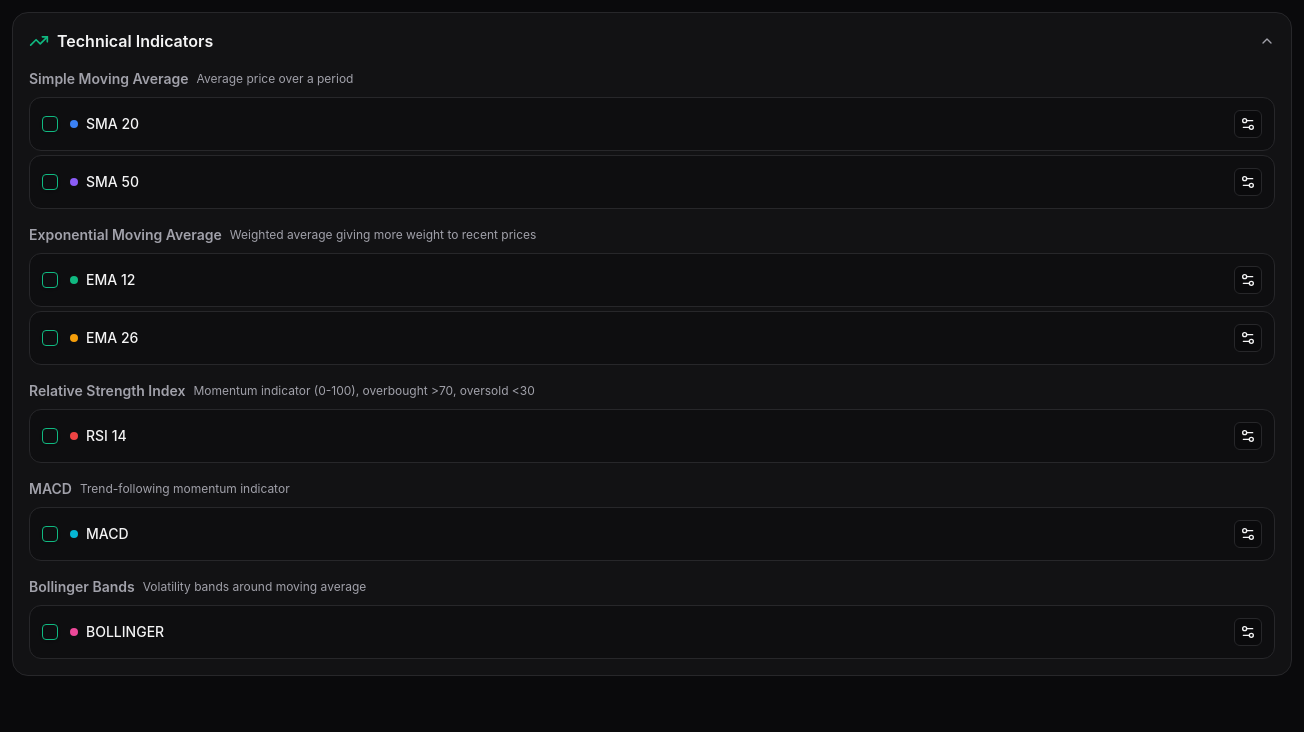
Test case: TechnicalIndicators › collapses panel when header is clicked
expect the text "SMA 20" is shown: met, box [86,114,139,134]
Click header to collapse
Click the button "Technical Indicators". click: (135, 41)
box: [13,13,1291,69]
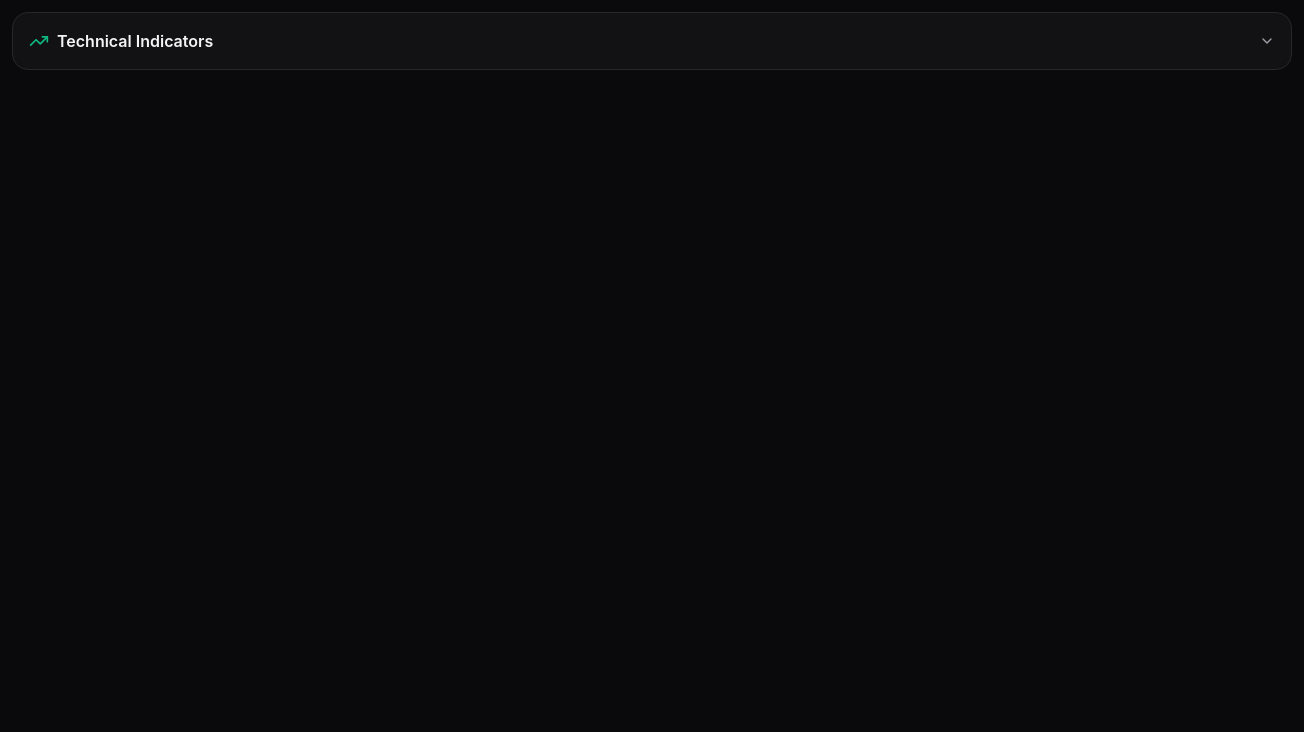
expect the text "SMA 20" is gone: met
